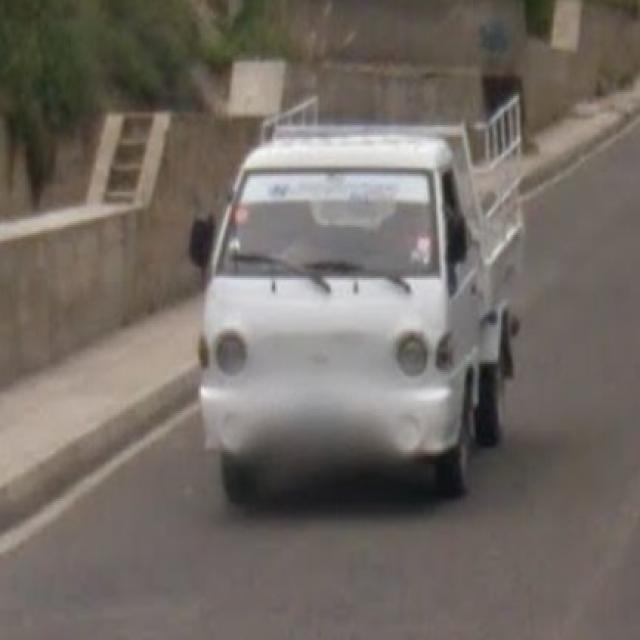cars: (170, 120, 556, 520)
